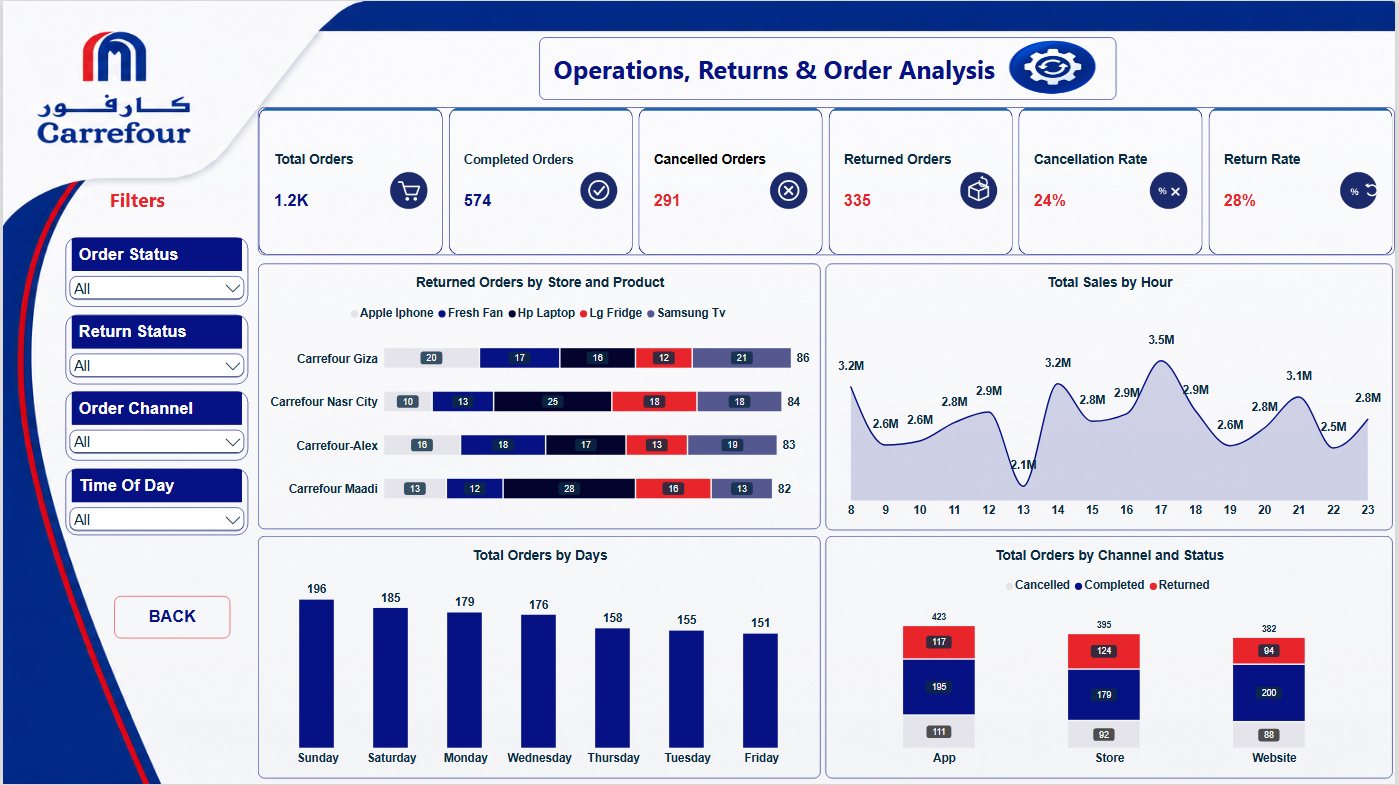

The dashboard page shown, as its layout file describes it:
{"tool":"powerbi","page":{"name":"Operations & Returns","canvas":[1920,1080],"ordinal":5},"visuals":[{"type":"cardVisual","fields":{"Data":["Sales.Total Orders","Sales.Completed Orders","Sales.Cancelled Orders","Sales.Returned Orders","Sales.Cancellation Rate","Sales.Return Rate"]},"box":[352,146,1568,204],"z":0},{"type":"barChart","title":"Returned Orders by Store and Product","fields":{"Category":["Sales.StoreName"],"Y":["Sales.Returned Orders"],"Series":["Sales.ProductName"]},"box":[352,362,776,366],"z":1000},{"type":"columnChart","title":"Total Orders by Channel and Status","fields":{"Category":["Sales.OrderChannel"],"Series":["Sales.OrderStatus"],"Y":["Sales.Total Orders"]},"box":[1134,738,782,334],"z":2000},{"type":"columnChart","title":"Total Orders by Days","fields":{"Category":["Sales.Day Of Week"],"Y":["Sales.Total Orders"]},"box":[352,738,776,334],"z":3000},{"type":"lineChart","title":"Total Sales by Hour","fields":{"Y":["Sales.Total Sales *"],"Category":["Sales.Hour"]},"box":[1134,362,782,368],"z":4000},{"type":"slicer","fields":{"Values":["Sales.OrderStatus"]},"box":[86,326,252,96],"z":5000},{"type":"slicer","fields":{"Values":["Sales.Return Status"]},"box":[86,432,252,96],"z":6000},{"type":"slicer","fields":{"Values":["Sales.OrderChannel"]},"box":[86,538,252,96],"z":7000},{"type":"slicer","fields":{"Values":["Sales.Time Of Day"]},"box":[86,644,252,92],"z":8000},{"type":"shape","box":[740,50,796,86],"z":9000},{"type":"shape","box":[66,237.7,239.6,66],"z":10000},{"type":"actionButton","box":[154,820,160,58],"z":11000},{"type":"image","box":[1362,34,174,118],"z":12000}]}

Visuals, with their boxes in screenshot pixels (x1, y1, x2, y2), scaled from the page's 1920x1080 canvas onto the 1399x785 screenshot:
cardVisual - Sales.Total Orders x Sales.Completed Orders: <box>256,106,1398,254</box>
"Returned Orders by Store and Product" barChart: <box>256,263,822,529</box>
"Total Orders by Channel and Status" columnChart: <box>826,536,1396,779</box>
"Total Orders by Days" columnChart: <box>256,536,822,779</box>
"Total Sales by Hour" lineChart: <box>826,263,1396,531</box>
slicer - Sales.OrderStatus: <box>63,237,246,307</box>
slicer - Sales.Return Status: <box>63,314,246,384</box>
slicer - Sales.OrderChannel: <box>63,391,246,461</box>
slicer - Sales.Time Of Day: <box>63,468,246,535</box>
shape: <box>539,36,1119,99</box>
shape: <box>48,173,223,221</box>
actionButton: <box>112,596,229,638</box>
image: <box>992,25,1119,110</box>
